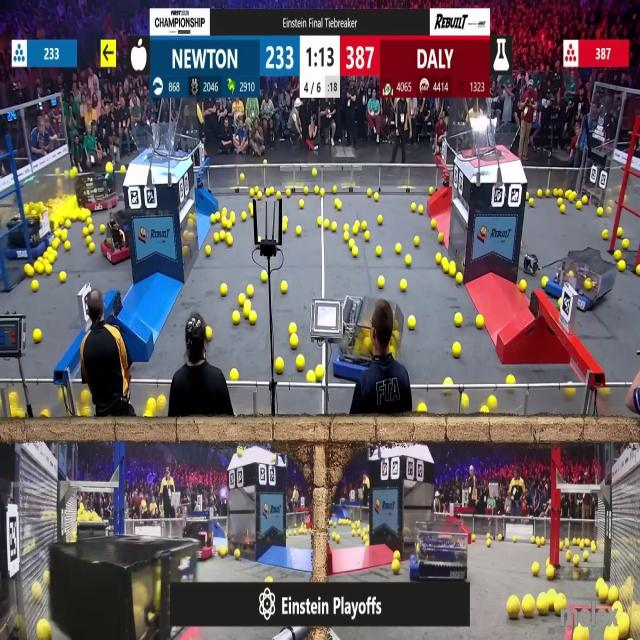ball_airborne: (37, 620, 50, 640)
ball_ground: (509, 596, 521, 619), (523, 597, 535, 619), (554, 596, 566, 614), (536, 598, 548, 616), (596, 582, 606, 602), (574, 628, 587, 640), (295, 355, 304, 370), (608, 588, 617, 603), (158, 395, 168, 408), (316, 365, 325, 379), (81, 390, 90, 403), (409, 316, 417, 330), (34, 328, 42, 342), (545, 566, 553, 580), (276, 358, 284, 372), (453, 344, 461, 358), (461, 393, 468, 408), (489, 395, 497, 408), (392, 561, 400, 574), (280, 281, 288, 294), (234, 312, 242, 325), (249, 312, 257, 325), (81, 408, 90, 419), (231, 367, 239, 379), (454, 314, 462, 326), (26, 266, 34, 278), (36, 264, 44, 276), (290, 336, 297, 349), (450, 263, 457, 276), (378, 277, 386, 288), (308, 372, 316, 383), (288, 322, 296, 333), (566, 387, 574, 398), (61, 272, 68, 284), (399, 280, 406, 292), (456, 274, 463, 286), (475, 316, 482, 328), (532, 563, 539, 575), (243, 306, 250, 318), (147, 398, 154, 410), (506, 376, 514, 386), (622, 240, 630, 250), (445, 377, 453, 387), (206, 326, 212, 339), (619, 262, 626, 273), (220, 284, 227, 295), (220, 547, 227, 558), (106, 163, 113, 174), (247, 285, 253, 297), (520, 280, 526, 292), (263, 272, 269, 284), (418, 405, 426, 414), (41, 411, 49, 420), (212, 234, 220, 243), (569, 191, 576, 201), (32, 281, 38, 292), (45, 266, 51, 277), (239, 293, 245, 304), (541, 277, 547, 288), (481, 407, 489, 415), (616, 251, 623, 260), (316, 217, 323, 226), (54, 240, 61, 249), (47, 254, 54, 263), (396, 244, 402, 254), (435, 254, 441, 264), (65, 241, 71, 251), (363, 232, 369, 242), (407, 255, 413, 265), (414, 237, 420, 247), (205, 246, 211, 256), (90, 243, 96, 253), (444, 264, 450, 274), (62, 231, 68, 241), (572, 556, 578, 566), (267, 575, 274, 583), (596, 208, 603, 216), (145, 412, 153, 419), (443, 256, 450, 264), (602, 231, 608, 240), (378, 215, 384, 224), (226, 237, 232, 246), (352, 248, 358, 257), (394, 552, 400, 561), (236, 551, 242, 560), (618, 229, 624, 238), (323, 219, 329, 228), (82, 226, 88, 235), (566, 554, 572, 563), (363, 535, 369, 544), (377, 246, 382, 256), (295, 225, 300, 235), (361, 220, 366, 230), (220, 232, 225, 242), (440, 234, 445, 244), (585, 552, 590, 562), (337, 201, 342, 211), (344, 234, 350, 242), (412, 204, 418, 212), (430, 220, 436, 228), (242, 212, 248, 220), (536, 189, 542, 197), (560, 206, 566, 214), (575, 202, 581, 210), (344, 223, 350, 231), (348, 240, 354, 248), (372, 194, 378, 202), (225, 220, 231, 228), (267, 188, 273, 196), (314, 186, 320, 194), (557, 199, 563, 207), (66, 219, 72, 227), (221, 208, 227, 216), (331, 221, 336, 230), (101, 224, 106, 233), (419, 205, 424, 214), (182, 247, 187, 256), (232, 214, 237, 223), (428, 187, 434, 194), (331, 186, 337, 193), (554, 188, 560, 195), (298, 201, 303, 209), (636, 266, 640, 276), (282, 223, 287, 231), (277, 190, 282, 198), (353, 226, 358, 234), (529, 200, 534, 208), (90, 224, 95, 232), (211, 214, 216, 222), (544, 188, 549, 196), (487, 539, 492, 547), (366, 188, 371, 196), (282, 216, 288, 222), (584, 198, 589, 205), (286, 189, 291, 196), (88, 237, 93, 244), (88, 218, 93, 225), (525, 191, 530, 198), (471, 534, 475, 542), (320, 188, 324, 196), (248, 203, 252, 211), (305, 186, 309, 194), (560, 541, 564, 549), (337, 534, 341, 542), (592, 544, 596, 552), (544, 559, 549, 565), (498, 534, 502, 541), (120, 167, 124, 174), (257, 191, 261, 198), (250, 189, 254, 196), (474, 538, 478, 545), (352, 529, 356, 536), (257, 237, 261, 244), (514, 536, 518, 542)
goal: (465, 121, 521, 160), (130, 130, 188, 160)
robot_blue: (549, 250, 614, 312), (7, 203, 54, 259), (335, 329, 375, 382)
robot_red: (130, 531, 207, 638), (78, 168, 120, 212), (100, 215, 130, 265), (185, 518, 217, 559)
